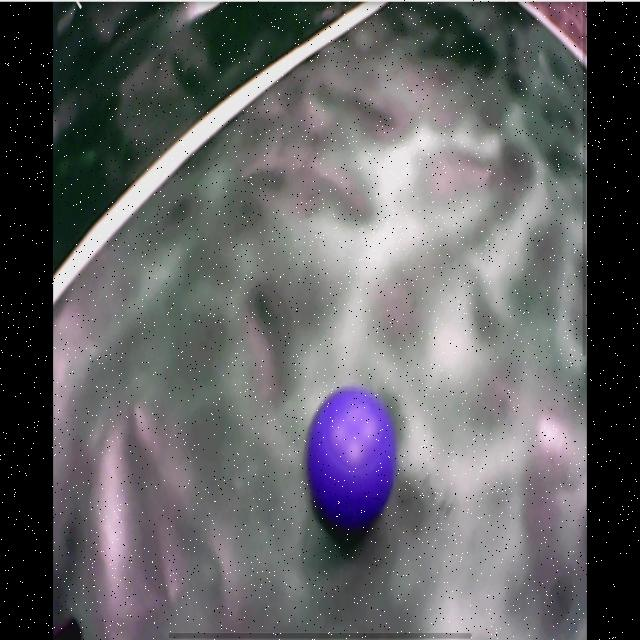ball: (307, 386, 398, 539)
